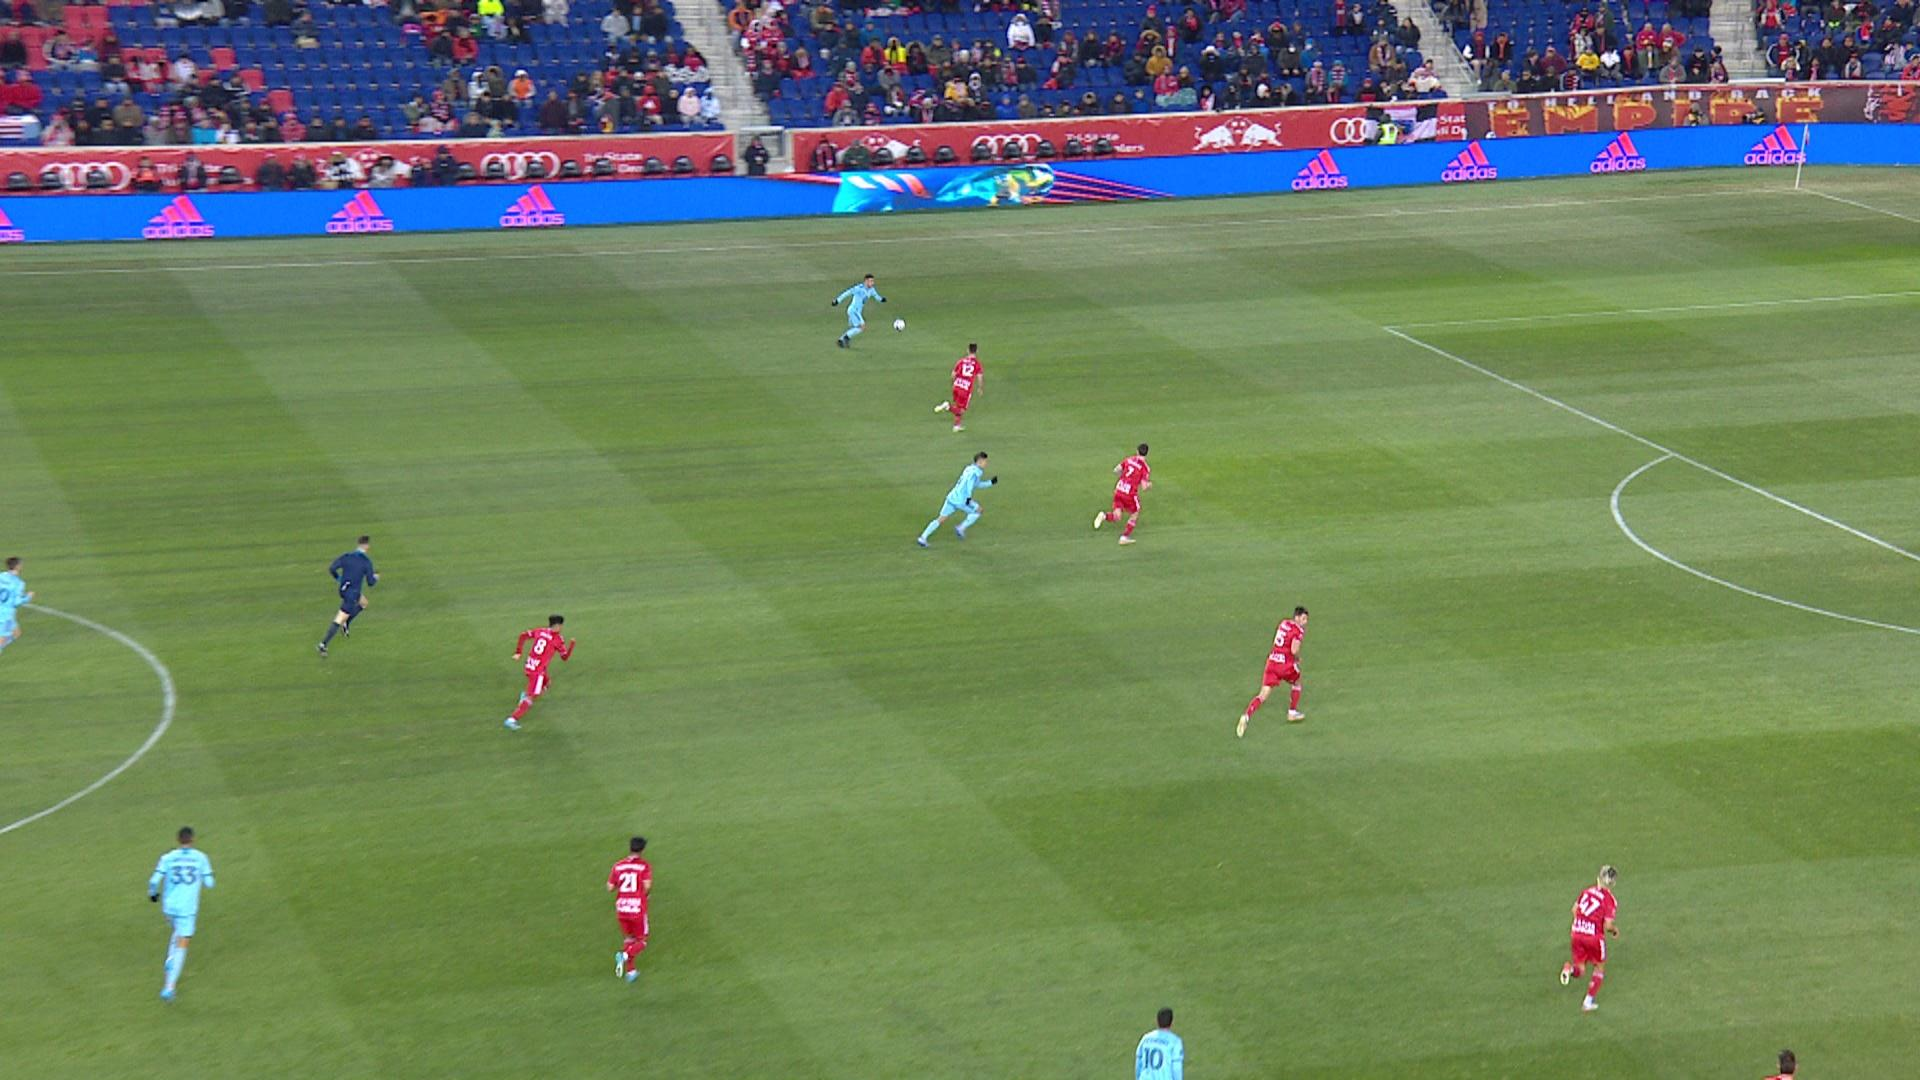football: (893, 318, 906, 332)
